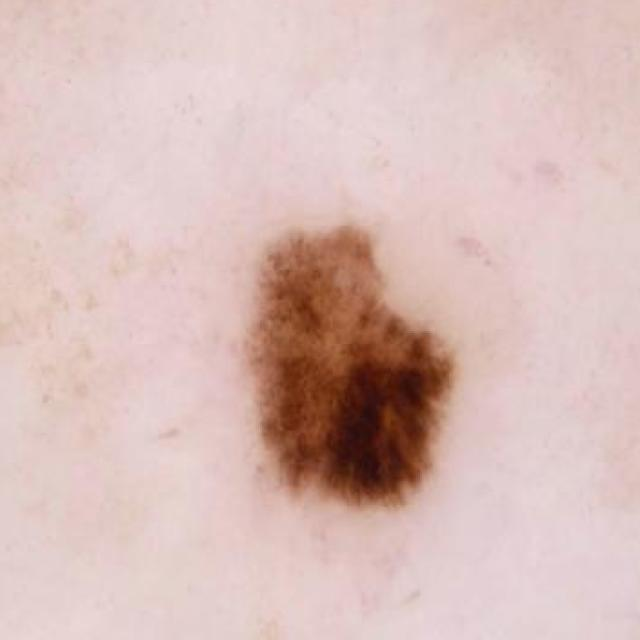AKIEC: (249, 185, 476, 538)
